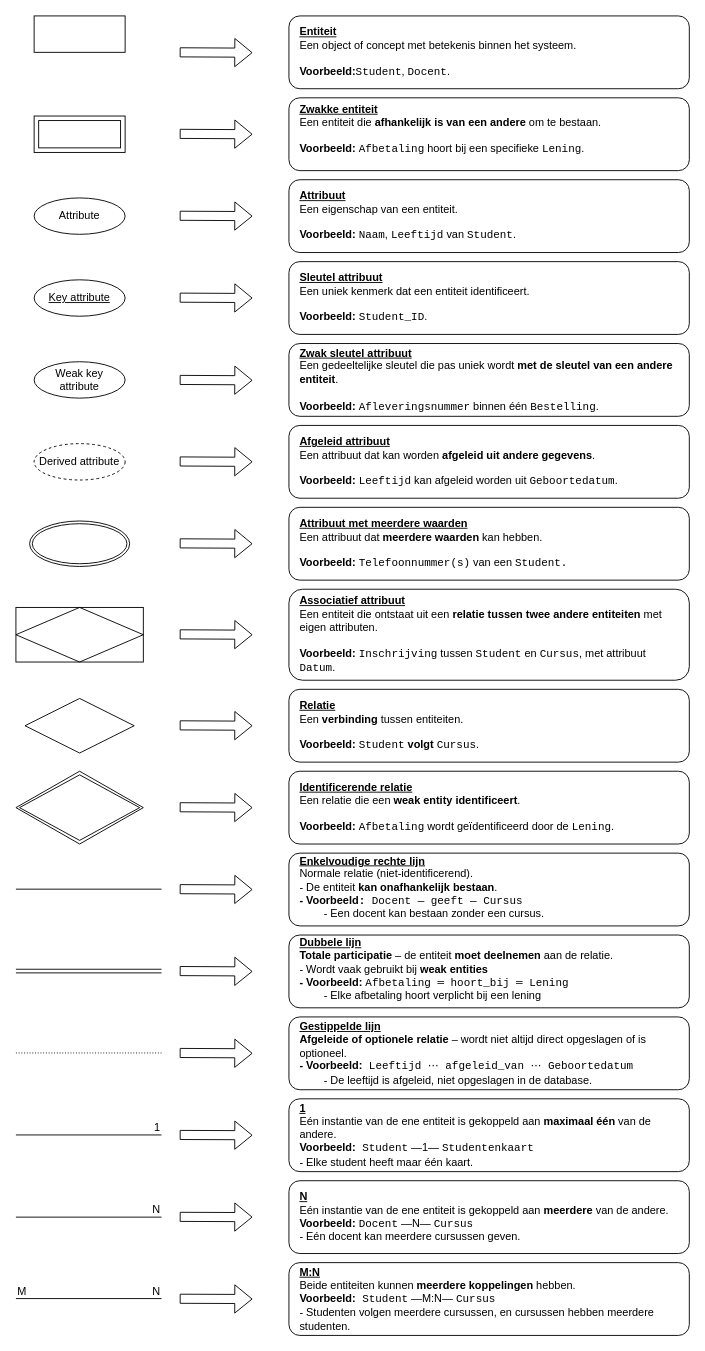
This 705x1351 diagram has some shape labels left out. The shapes that lost their labels are listed below. From the top down, each one's box as (x1, y1, x2, y2) in pixels, then its label:
(33, 15, 125, 52): Entity
(33, 115, 125, 152): Weak entity
(29, 520, 130, 566): Multi-value attribute
(15, 607, 143, 662): Associative Entity
(24, 698, 134, 753): Relationship
(15, 770, 143, 844): Identifying relationship
